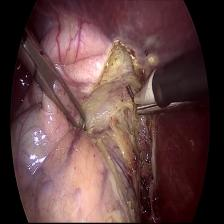Grasper: (19, 31, 97, 149), (134, 102, 181, 120)
Hook: (124, 64, 158, 108)
